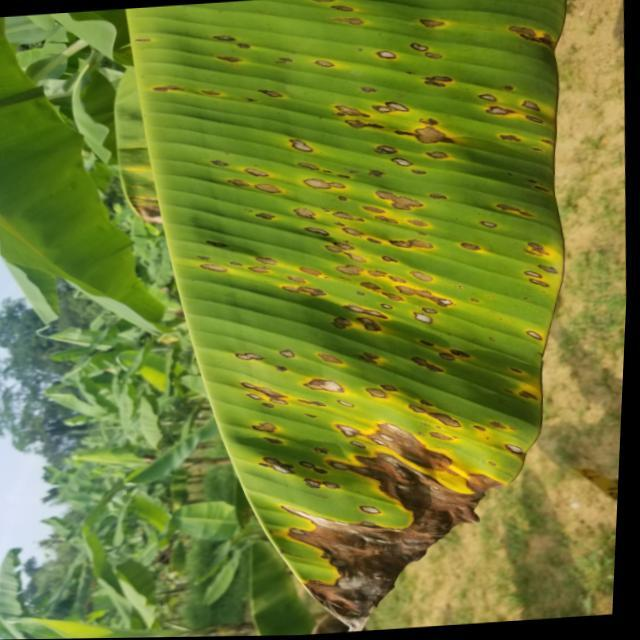Early_rust: (125, 0, 567, 596), (105, 136, 174, 236)
